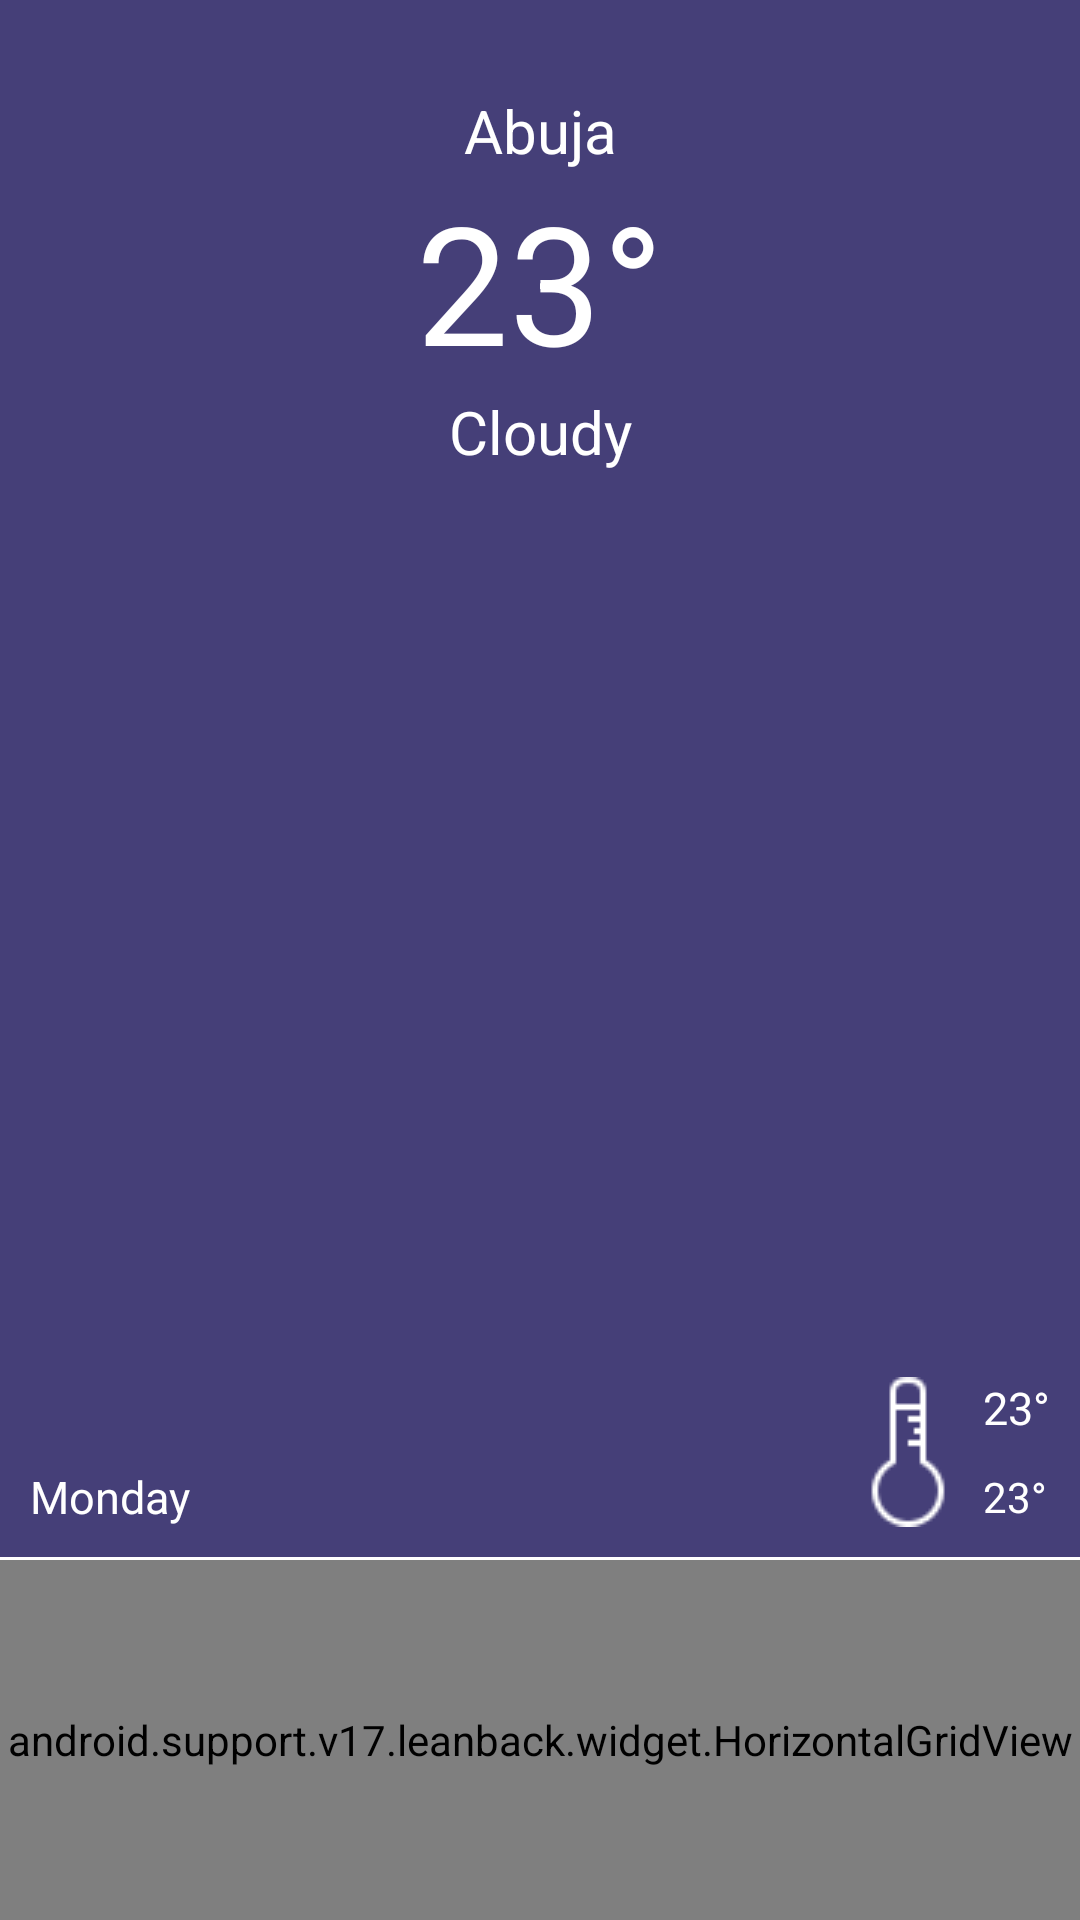

Icon click points for this 1080×1920 phone screenshot, format (x,y):
Temperature: (908,1452)
